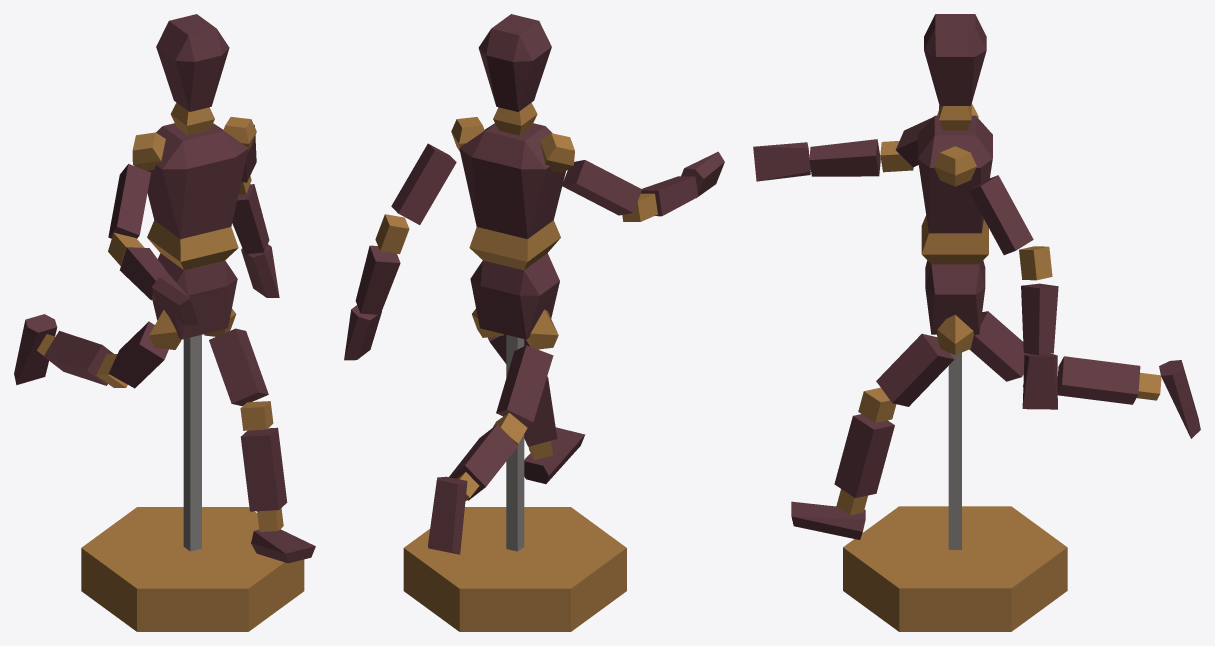
Rendered from dummy-small-running.fbx.
3 views of the same model, side by side, from view 1: azimuth 30°, elevation 25°; view 2: azimuth 150°, elevation 25°; view 3: azimuth 270°, elevation 25° (orthographic).
Parts seen in each view (by area): view 1: dummy-small-running; view 2: dummy-small-running; view 3: dummy-small-running.
Part boxes in pixels (box(x1,y1,x2,y2)): dummy-small-running: box(14, 14, 315, 631); dummy-small-running: box(344, 14, 724, 631); dummy-small-running: box(753, 14, 1200, 631).
Bounding box in the file's own units: 0.1588 × 0.3653 × 0.26.
